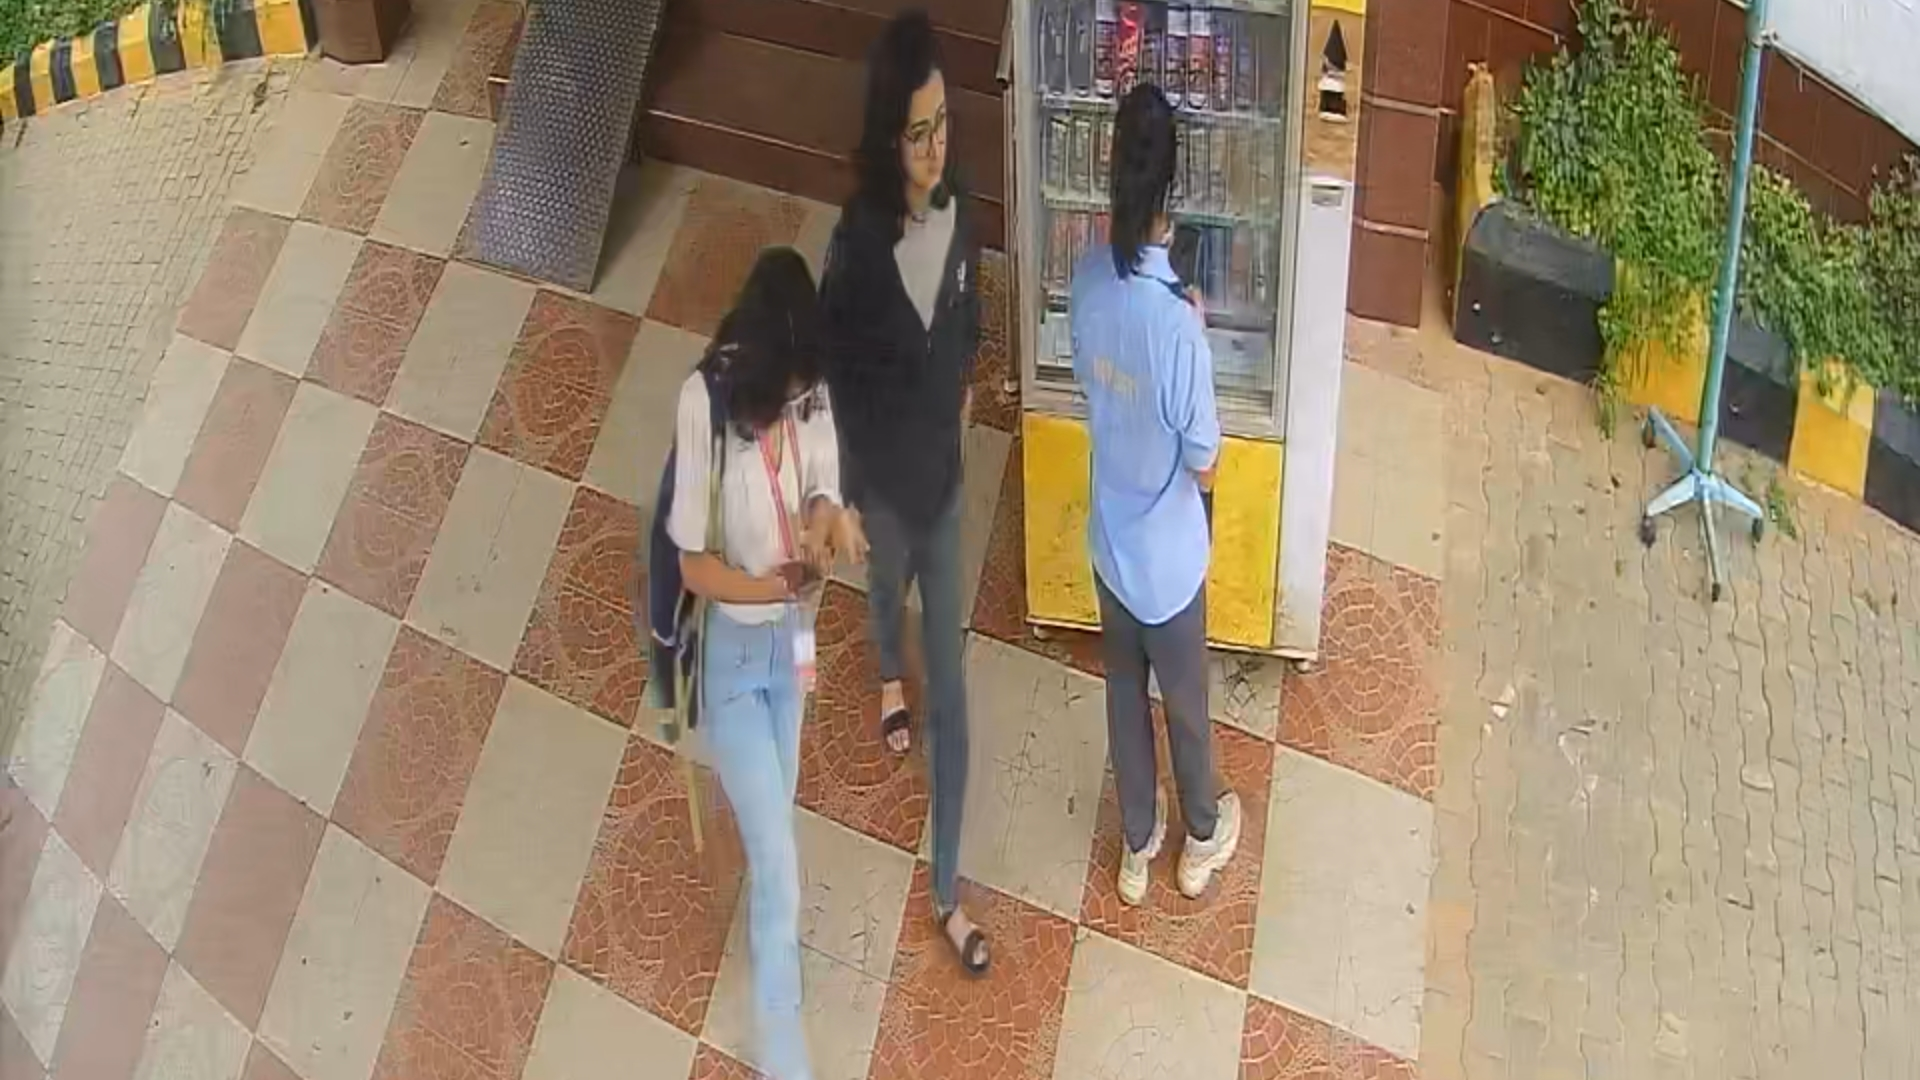intruder: (822, 4, 1033, 1005)
not intruder: (615, 220, 833, 1040)
